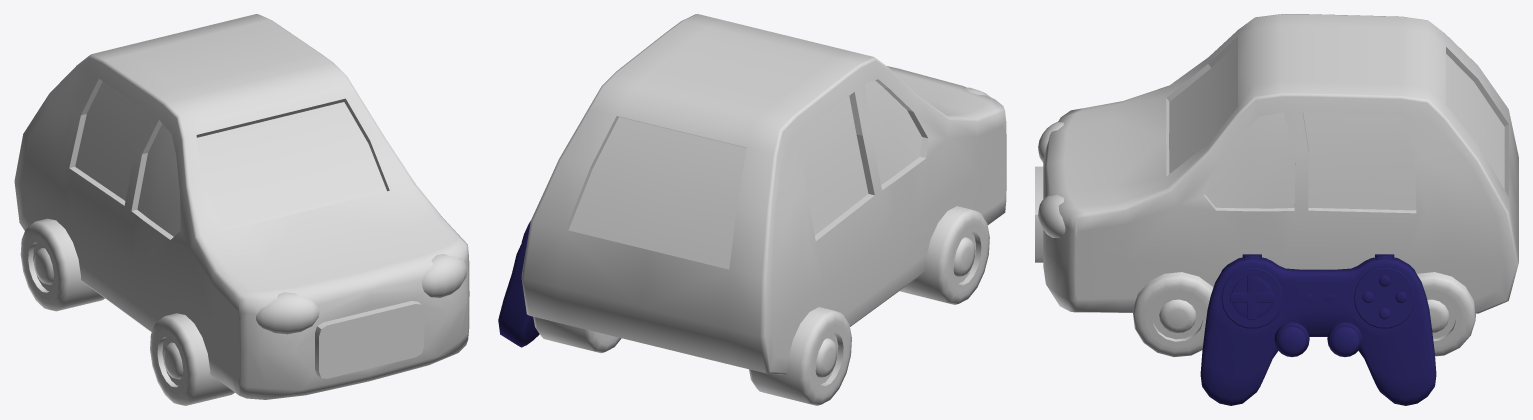
File: OBJ_VoitureTelecommande.fbx
The picture shows the model from 3 angles, left to right: view 1: azimuth 30°, elevation 25°; view 2: azimuth 150°, elevation 25°; view 3: azimuth 270°, elevation 25°; orthographic projection. The views are drawn at different scales.
Visible parts, largest first — view 1: Box063; view 2: Box063; view 3: Box063.
Part boxes in pixels (<box>): Box063: <box>14,14,469,405</box>; Box063: <box>498,14,1006,405</box>; Box063: <box>1035,14,1518,405</box>.
Bounding box in the file's own units: 25.86 × 21.16 × 34.17.
